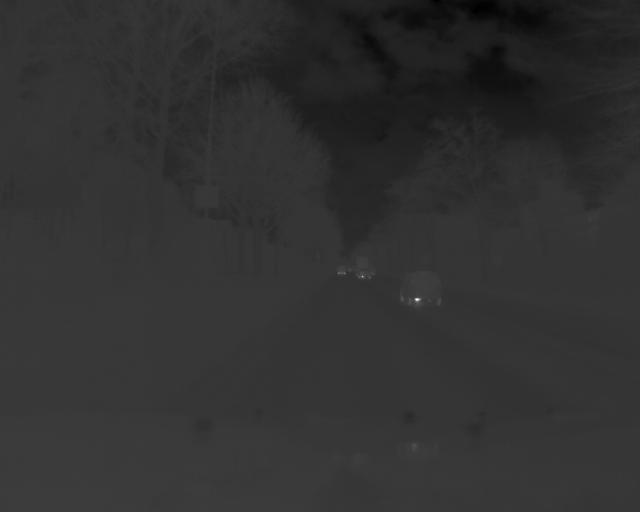car: (396, 268, 447, 308)
